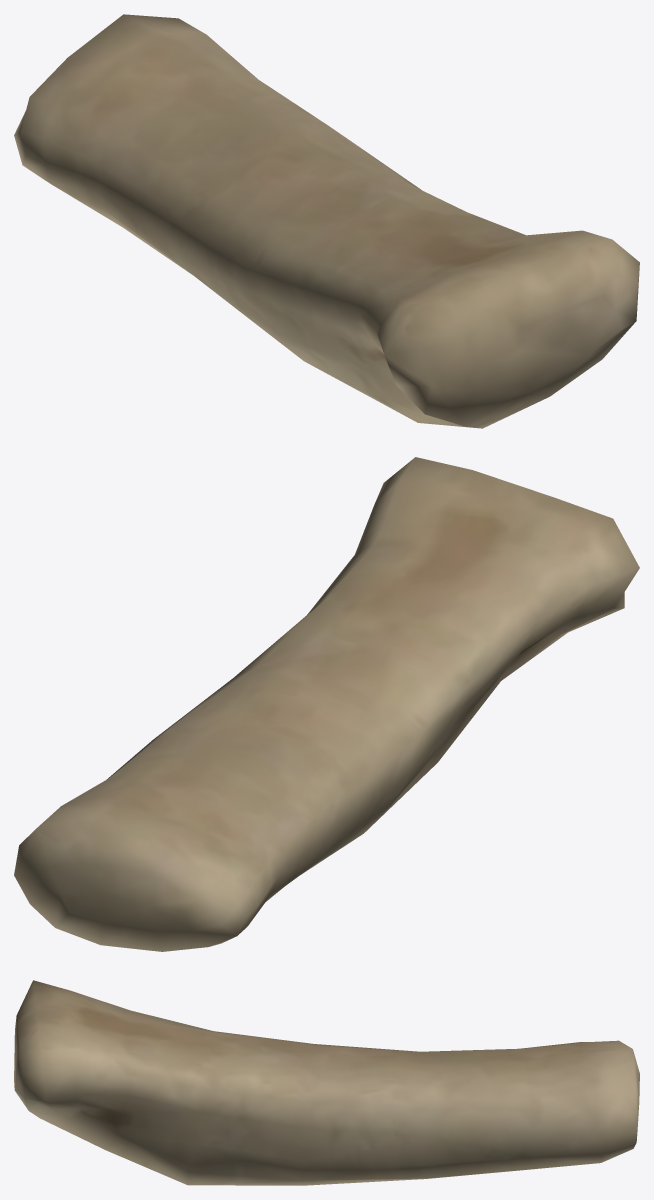
The model's file is Xiphoid_Process.glb.
The picture shows the model from 3 angles, top to bottom: view 1: azimuth 30°, elevation 25°; view 2: azimuth 150°, elevation 25°; view 3: azimuth 270°, elevation 25°; orthographic projection. The views are drawn at different scales.
Visible parts, largest first — view 1: Xiphoid_Process1:Group6920; view 2: Xiphoid_Process1:Group6920; view 3: Xiphoid_Process1:Group6920.
Part boxes in pixels (bbox=[...]): Xiphoid_Process1:Group6920: bbox=[14, 14, 639, 428]; Xiphoid_Process1:Group6920: bbox=[14, 457, 639, 951]; Xiphoid_Process1:Group6920: bbox=[14, 980, 639, 1185].
Size of the model in its own units: 6.52 by 5.66 by 18.8.
Materials: 1 (1 with a texture image).
